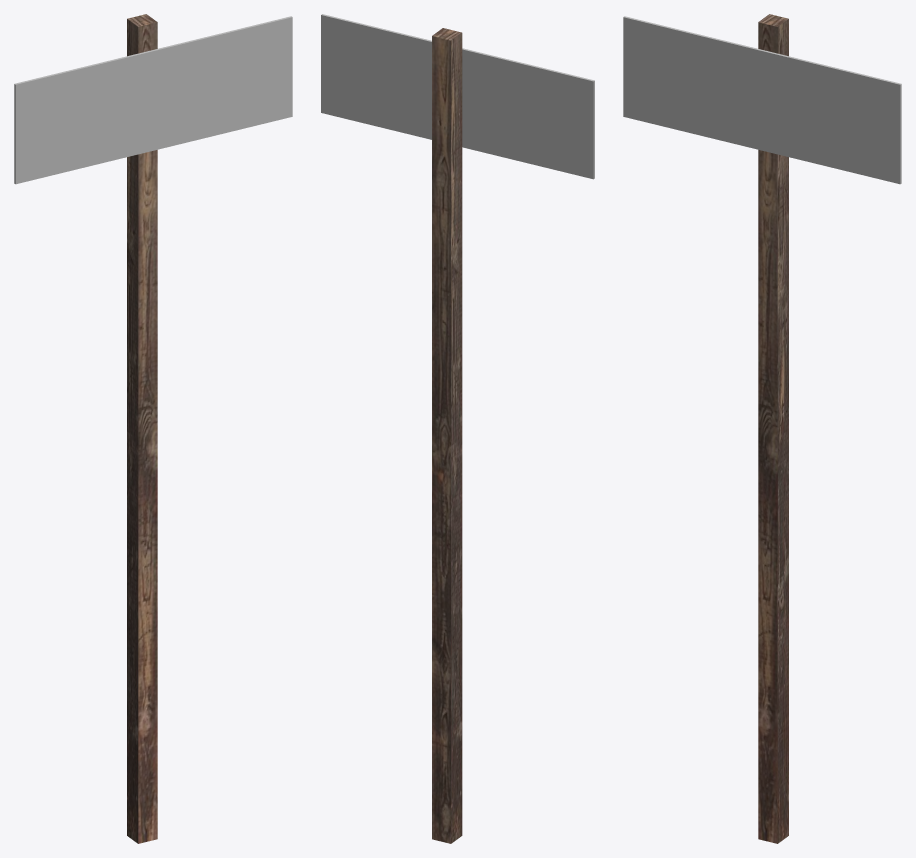
Rendered from YOS_Sign_32.fbx.
3 views of the same model, side by side, from view 1: azimuth 30°, elevation 25°; view 2: azimuth 150°, elevation 25°; view 3: azimuth 330°, elevation 25° (orthographic).
Parts seen in each view (by area): view 1: Plane, WoodPost_2; view 2: WoodPost_2, Plane; view 3: Plane, WoodPost_2.
Part boxes in pixels (<box>): Plane: <box>14,16,292,184</box>; WoodPost_2: <box>127,14,157,843</box>; WoodPost_2: <box>432,28,462,843</box>; Plane: <box>321,14,594,179</box>; Plane: <box>623,16,901,184</box>; WoodPost_2: <box>758,14,788,843</box>.
Size of the model in its own units: 71.02 by 200 by 7.74.
